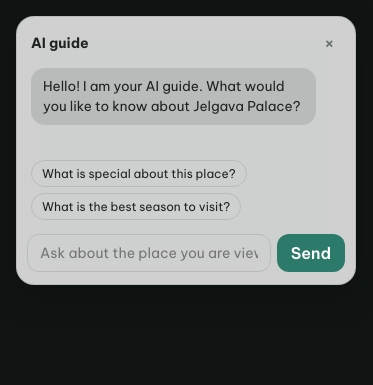
Test: AiGuide › shows localized rate-limit errors
Check: the text "Hello! I am your AI guide" is shown, box [43,77,300,115]
Click the button "What is special about this place?": (139, 174) [31,160,246,187]
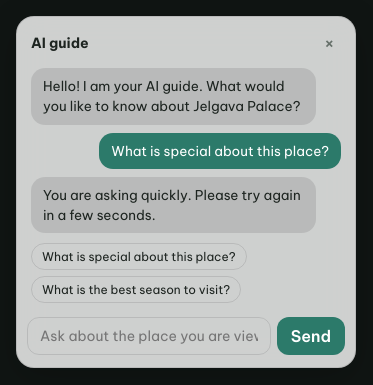
Check: the text "You are asking quickly. Please try again in a few seconds." is shown, box [31,177,316,233]
